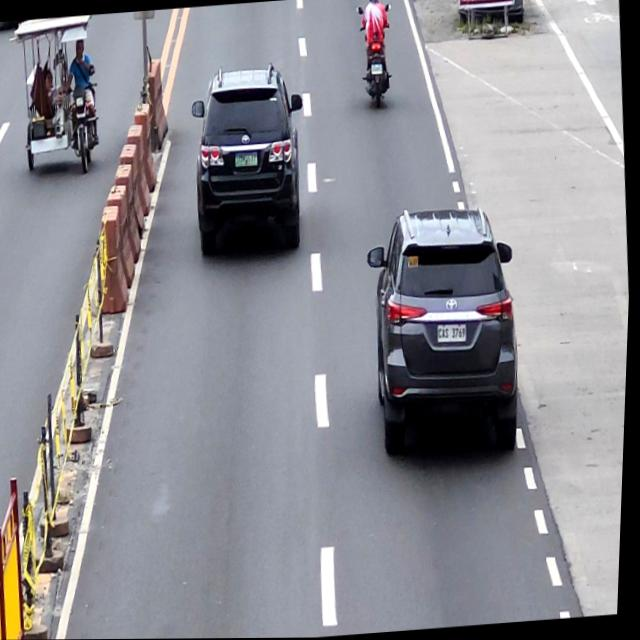Car: (360, 198, 532, 464), (183, 62, 316, 260)
License-Plate: (439, 324, 469, 343), (234, 153, 260, 168), (370, 63, 384, 76)
Motorcycle: (354, 3, 399, 109)
